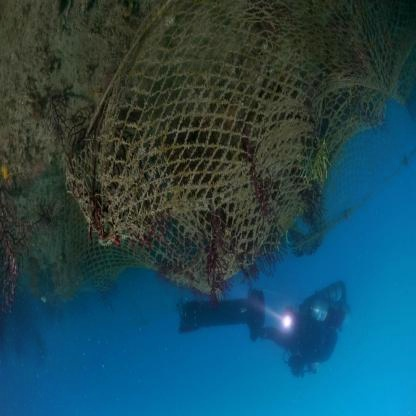net: (72, 1, 412, 296)
